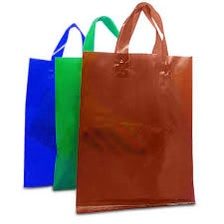plastic_bag: (70, 0, 197, 215), (18, 20, 103, 192), (51, 11, 130, 195)
